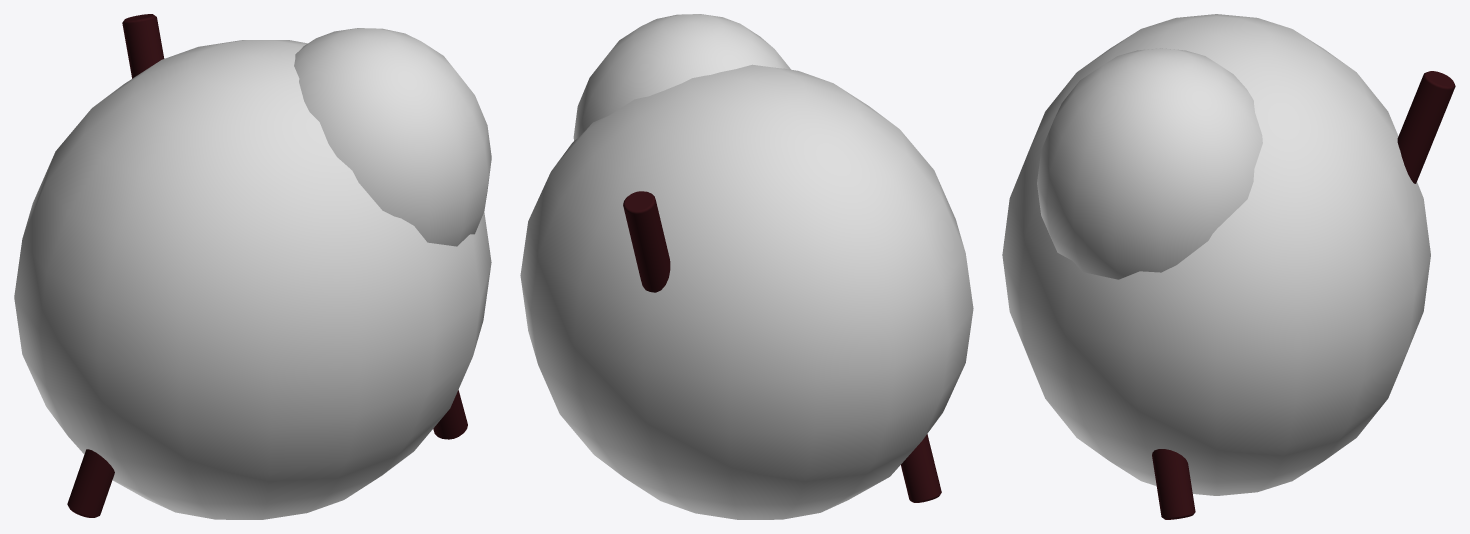
Rendered from pulsing-mass.fce90905.glb.
The picture shows the model from 3 angles, left to right: view 1: azimuth 30°, elevation 25°; view 2: azimuth 150°, elevation 25°; view 3: azimuth 270°, elevation 25°; orthographic projection. The views are drawn at different scales.
Parts seen in each view (by area): view 1: accent, body; view 2: accent, body; view 3: accent, body.
Boxes of the visible parts, bbox=[...] form: accent: bbox=[14, 28, 491, 519]; body: bbox=[67, 14, 467, 517]; accent: bbox=[520, 14, 973, 519]; body: bbox=[623, 191, 941, 502]; accent: bbox=[1002, 14, 1430, 495]; body: bbox=[1152, 71, 1455, 519].
Bounding box in the file's own units: 0.7 × 0.73 × 0.6555.
